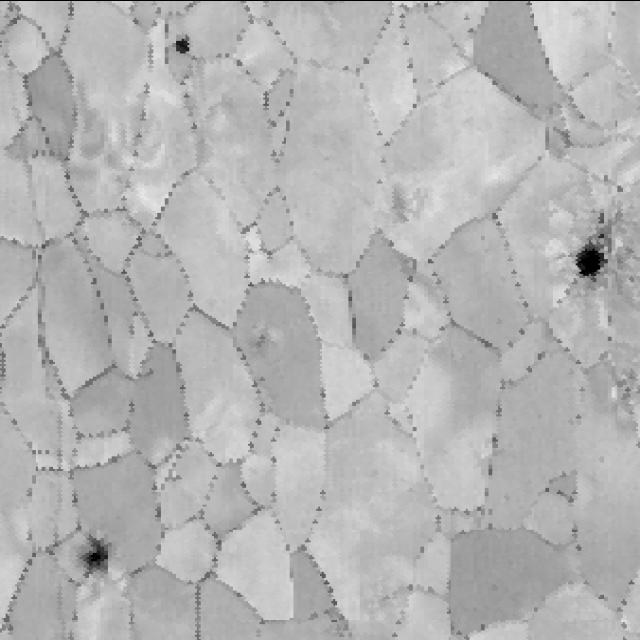good_void: (564, 209, 630, 285), (67, 525, 117, 591), (385, 173, 434, 235), (245, 320, 275, 355), (172, 36, 198, 60), (462, 13, 473, 22)
